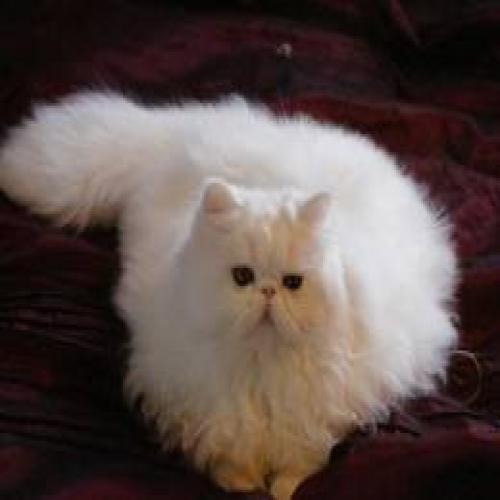persian: (184, 164, 349, 387)
